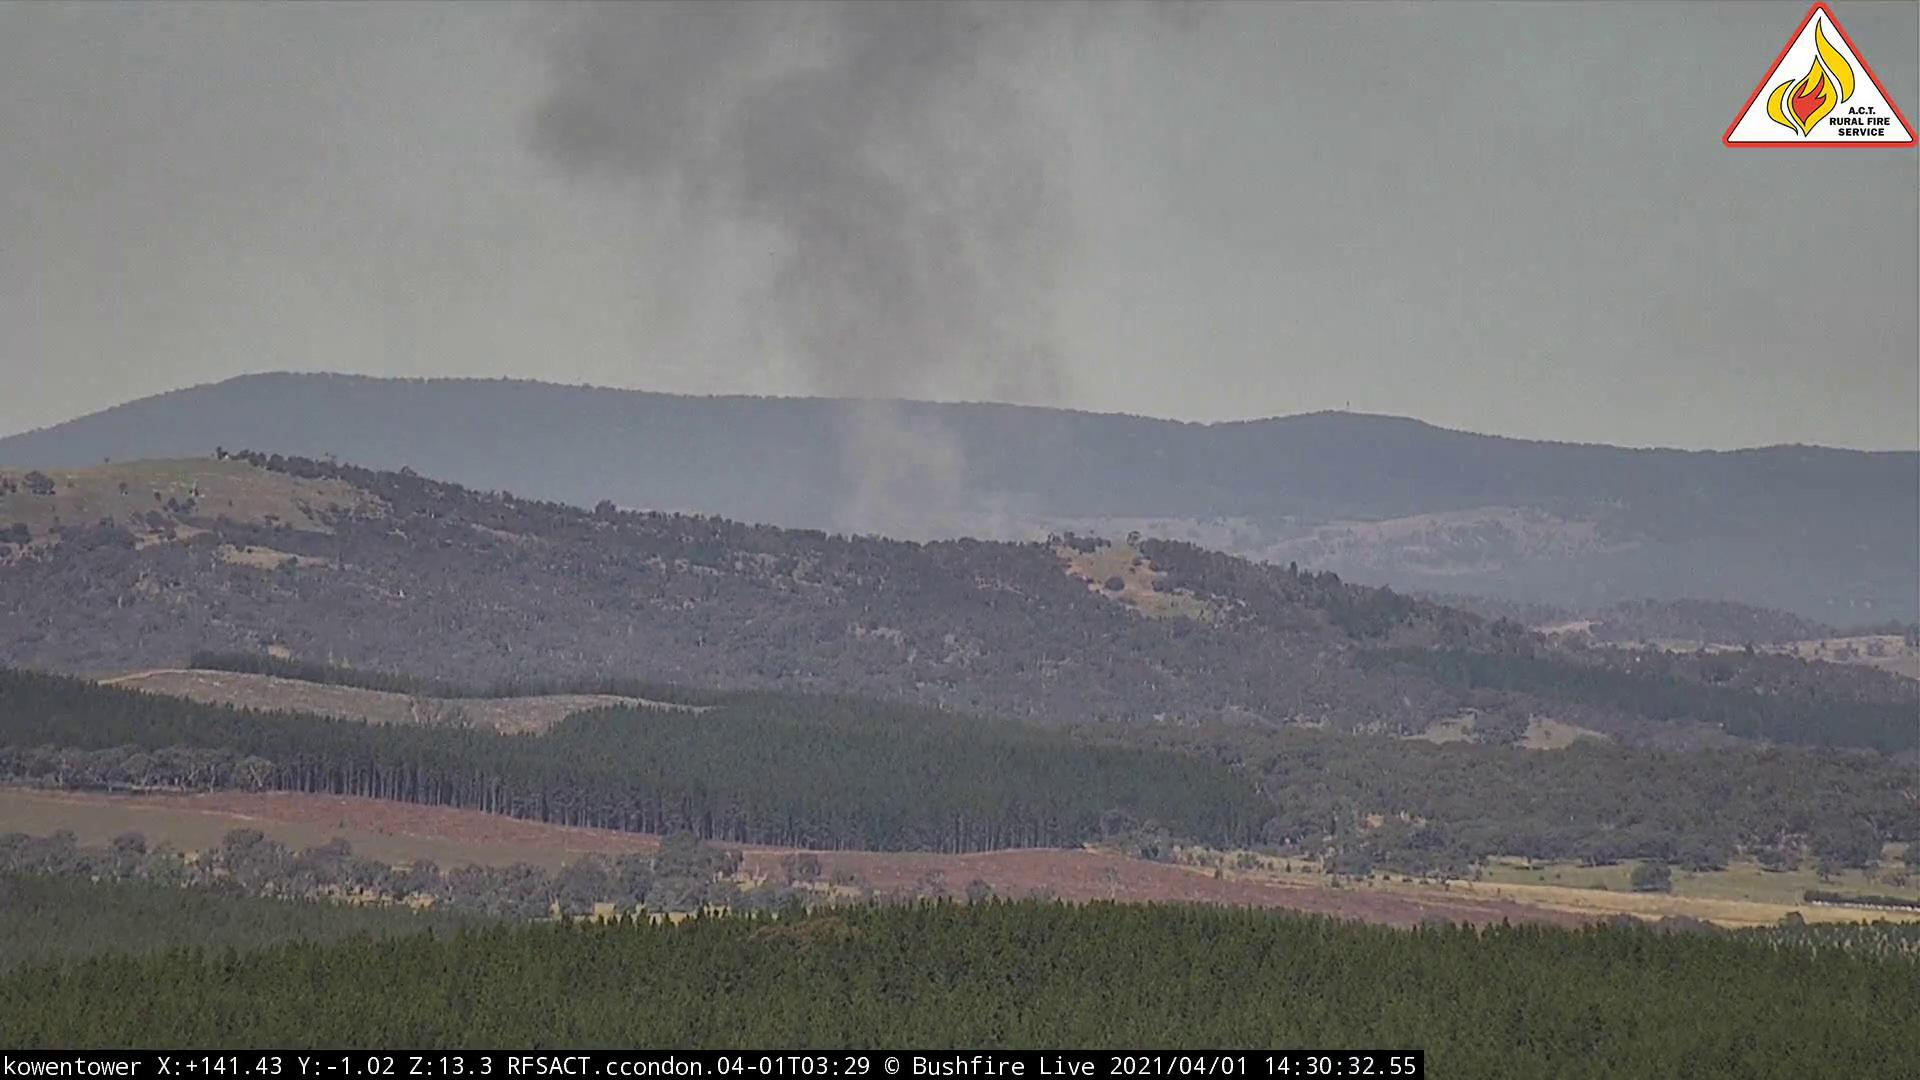Smoke: (483, 3, 1168, 593)
